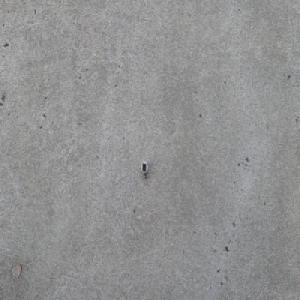MetalPart: (140, 161, 148, 180)
